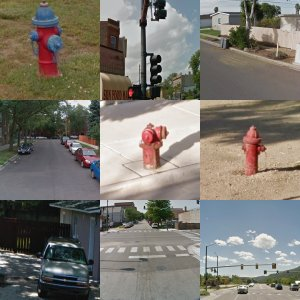棕梠樹: (240, 211, 276, 257)
樓梯: (119, 16, 196, 90)
汽車: (265, 64, 285, 84), (154, 216, 172, 232), (169, 177, 187, 192)
紅綠燈: (38, 119, 76, 176), (2, 125, 22, 186)
